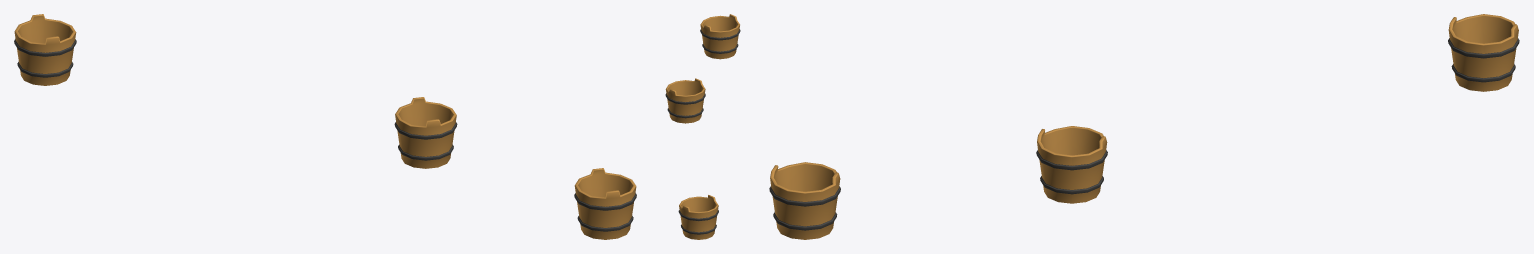
File: baldess.fbx
3 views of the same model, side by side, from view 1: azimuth 30°, elevation 25°; view 2: azimuth 150°, elevation 25°; view 3: azimuth 270°, elevation 25° (orthographic). The views are drawn at different scales.
Parts seen in each view (by area): view 1: Balde3, Balde10, Balde9; view 2: Balde10, Balde9, Balde3; view 3: Balde9, Balde3, Balde10.
Part boxes in pixels (left/top/right/bottom): Balde3: left=574, top=168, right=636, bottom=239; Balde10: left=14, top=14, right=76, bottom=85; Balde9: left=394, top=97, right=457, bottom=168; Balde10: left=678, top=195, right=718, bottom=239; Balde9: left=665, top=78, right=705, bottom=123; Balde3: left=700, top=14, right=740, bottom=59; Balde9: left=1036, top=126, right=1107, bottom=203; Balde3: left=769, top=162, right=840, bottom=239; Balde10: left=1448, top=14, right=1519, bottom=91.
Bounding box in the file's own units: 495 × 75.12 × 885.
